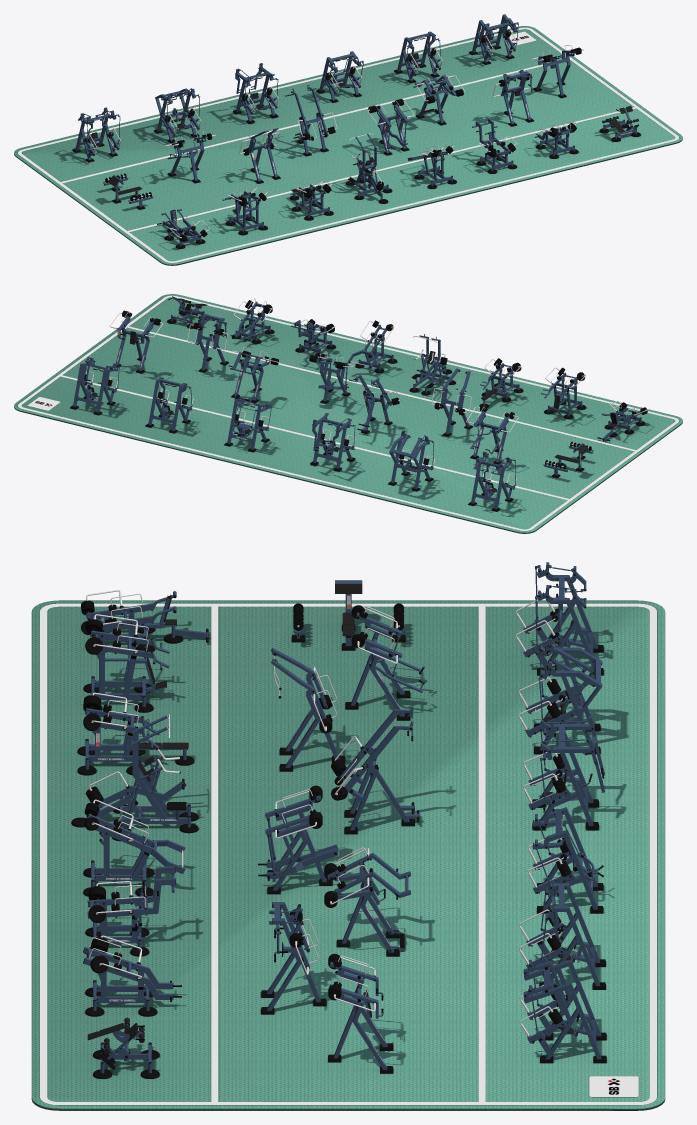
File: large.glb
3 renders of one model, top to bottom at view 1: azimuth 30°, elevation 25°; view 2: azimuth 150°, elevation 25°; view 3: azimuth 270°, elevation 25°, orthographic. The views are drawn at different scales.
Parts seen in each view (by area): view 1: Cube, Cube.001, Element_2.015, Element_2.053, Element_2.119, Element_2.024, Element_2.039, Element_2.113, Blue metal.002, blue_metal.021, Corpus, blue_metal.012 (+11 smaller); view 2: Cube, Cube.001, Element_2.015, Element_2.053, Element_2.039, Element_2.113, Element_2.024, Element_2.119, Blue metal.002, blue_metal.021, blue_metal.012, Element_2.087 (+4 smaller); view 3: Cube, Cube.001, Element_2.015, Blue metal.002, Element_2.053, Element_2.113, Element_2.024, Element_2.039, accent.035, Element_2.119, Corpus, accent.007 (+26 smaller).
Part boxes in pixels (x1,y1,x2,y2): Cube: (14,26,682,265); Cube.001: (18,27,678,262); Element_2.015: (472,14,517,62); Element_2.053: (155,88,196,140); Element_2.119: (319,51,358,100); Element_2.024: (236,67,275,121); Element_2.039: (397,31,437,80); Element_2.113: (75,110,115,159); Blue metal.002: (349,134,388,197); blue_metal.021: (503,71,531,123); Corpus: (229,198,263,232); blue_metal.012: (536,52,574,95); Cube: (14,294,682,533); Cube.001: (18,295,678,530); Element_2.015: (73,360,118,412); Element_2.053: (389,433,430,488); Element_2.039: (148,377,189,430); Element_2.113: (471,455,511,509); Element_2.024: (312,417,352,468); Element_2.119: (227,398,266,449); Blue metal.002: (413,334,451,392); blue_metal.021: (199,314,225,369); blue_metal.012: (115,316,153,370); Element_2.087: (473,415,507,462); Cube: (31,600,665,1110); Cube.001: (40,603,656,1104); Element_2.015: (523,959,601,1059); Blue metal.002: (119,715,190,828); Element_2.053: (539,642,602,750); Element_2.113: (536,570,597,670); Element_2.024: (539,724,593,825); Element_2.039: (538,883,599,985); accent.035: (265,795,338,882); Element_2.119: (542,807,597,909); Corpus: (91,634,166,706); accent.007: (528,716,604,809).
Size of what is drawn, in the model's own units: 24.88 by 2.56 by 13.12.
162 materials, 31 textured.
